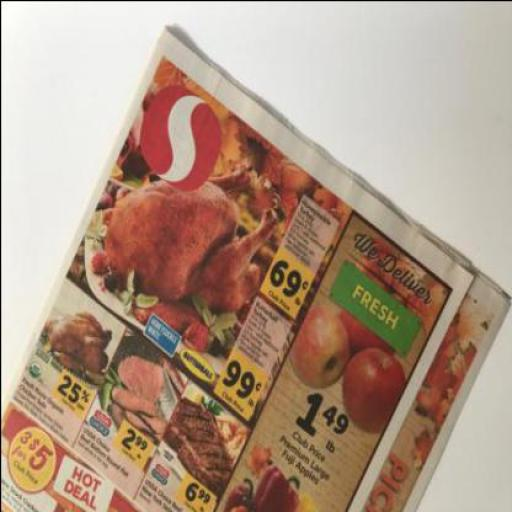paper: (1, 22, 511, 511)
